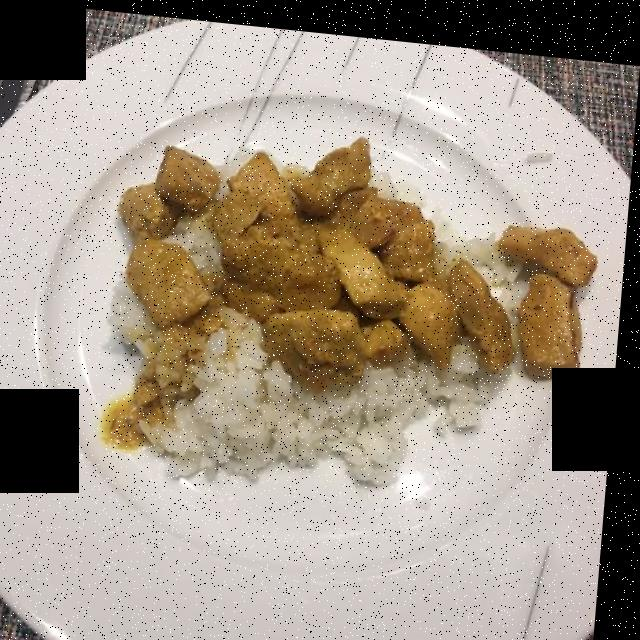chicken-cut-into-stripes-only-meat: (127, 105, 595, 381)
rice: (102, 299, 485, 484)
